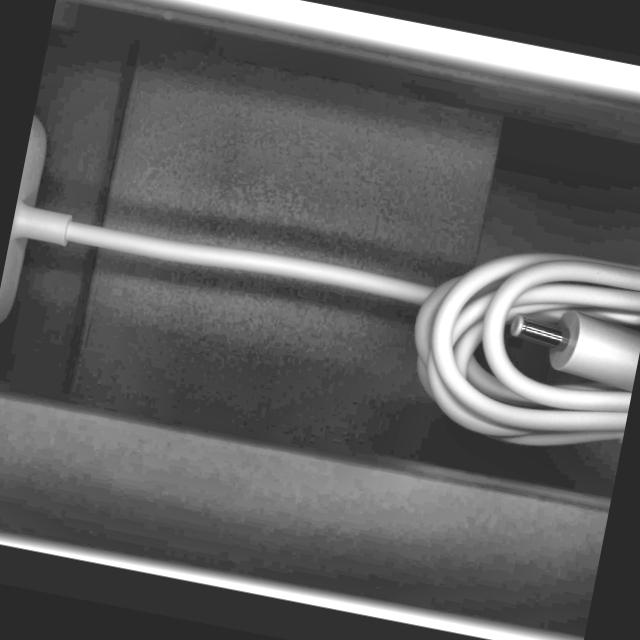Cable: (0, 82, 640, 476)
